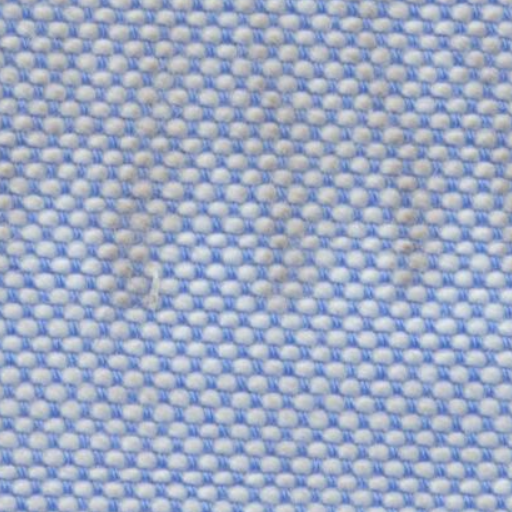WuZi: (4, 10, 504, 323)
